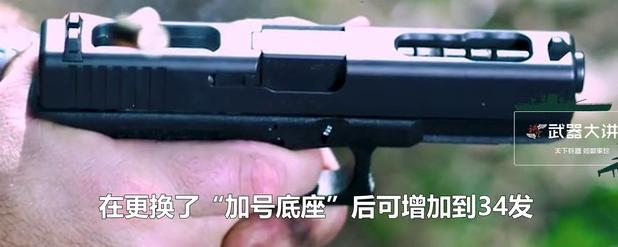gun: (1, 1, 618, 247)
